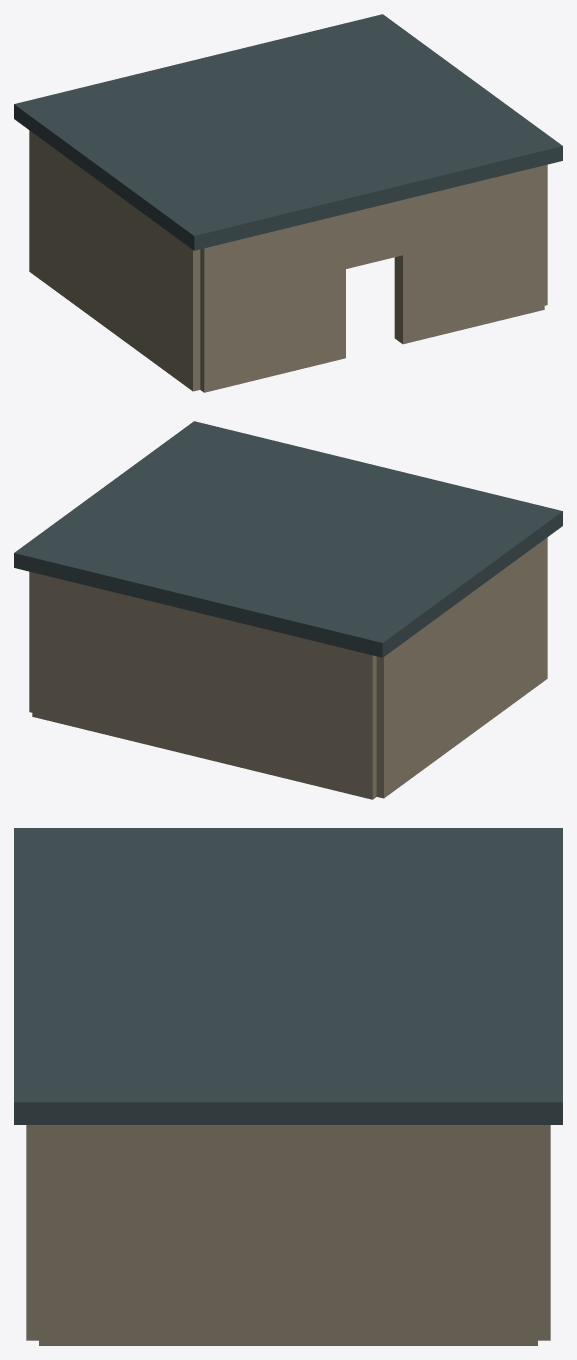
Rendered from facility.glb.
3 views of the same model, one above another, from view 1: azimuth 30°, elevation 25°; view 2: azimuth 150°, elevation 25°; view 3: azimuth 270°, elevation 25° (orthographic). The views are drawn at different scales.
Parts seen in each view (by area): view 1: roof, left, front_r, front_l, lintel, right; view 2: roof, back, left, right; view 3: roof, right, back, front_r.
Part boxes in pixels (<box>): roof: <box>14,14,562,250</box>; left: <box>29,130,200,391</box>; front_r: <box>394,165,544,344</box>; front_l: <box>200,214,345,392</box>; lintel: <box>346,200,402,268</box>; right: <box>544,164,547,305</box>; roof: <box>14,421,562,657</box>; back: <box>32,572,376,799</box>; left: <box>376,537,547,798</box>; right: <box>29,571,32,712</box>; roof: <box>14,828,562,1124</box>; right: <box>39,1125,537,1345</box>; back: <box>538,1125,550,1340</box>; front_r: <box>26,1125,38,1340</box>.
Bounding box in the file's own units: 13 × 5.5 × 11.
